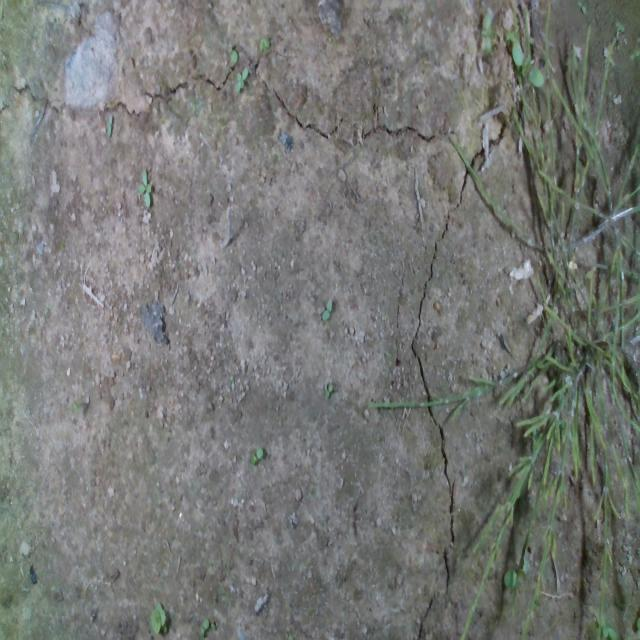weed: (136, 167, 152, 208), (234, 67, 248, 95), (321, 295, 332, 322), (250, 444, 263, 466), (198, 616, 210, 637), (106, 111, 114, 139), (324, 381, 334, 401), (576, 0, 586, 14)
